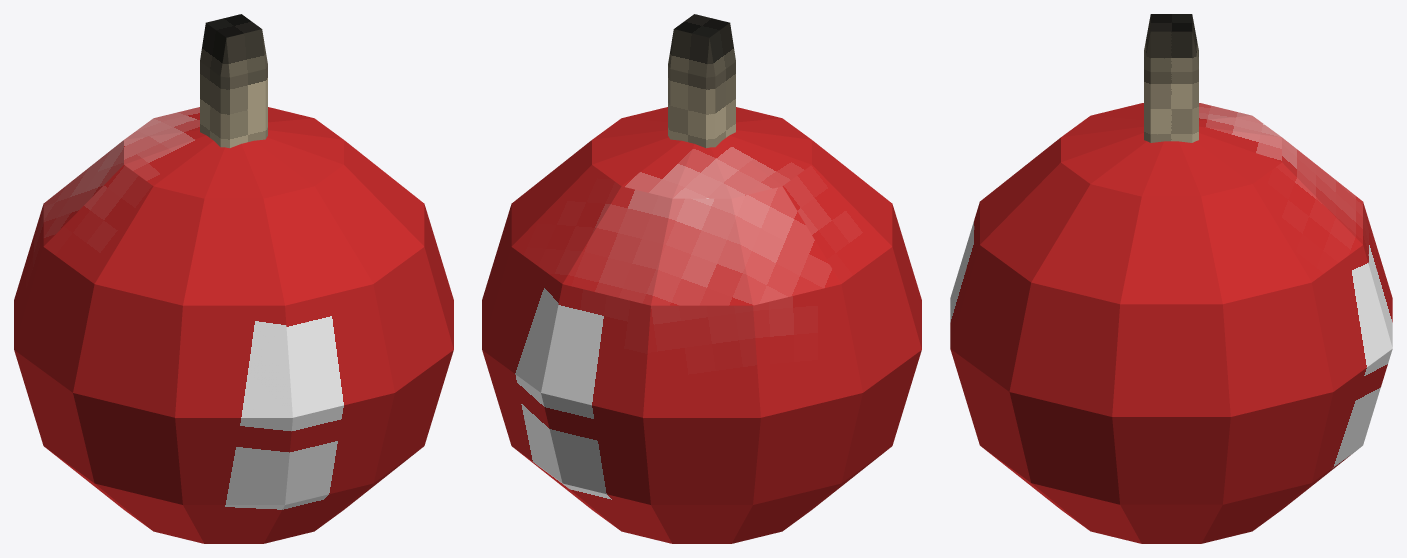
Rendered from mega.gltf.
3 renders of one model, left to right at view 1: azimuth 30°, elevation 25°; view 2: azimuth 150°, elevation 25°; view 3: azimuth 270°, elevation 25°, orthographic.
Visible parts, largest first — view 1: sphere, beveled_cuboid; view 2: sphere, beveled_cuboid; view 3: sphere, beveled_cuboid.
Part boxes in pixels (x1=…): sphere: x1=14, y1=107, x2=453, y2=543; beveled_cuboid: x1=200, y1=14, x2=267, y2=148; sphere: x1=482, y1=107, x2=921, y2=543; beveled_cuboid: x1=668, y1=14, x2=735, y2=148; sphere: x1=950, y1=103, x2=1392, y2=543; beveled_cuboid: x1=1144, y1=14, x2=1198, y2=142.
Bounding box in the file's own units: 1 × 1.25 × 1.
Materials: 1 (1 with a texture image).
